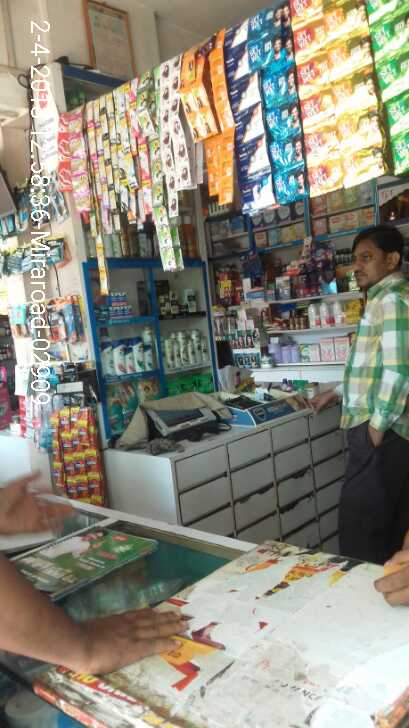vicks: (98, 288, 133, 319)
